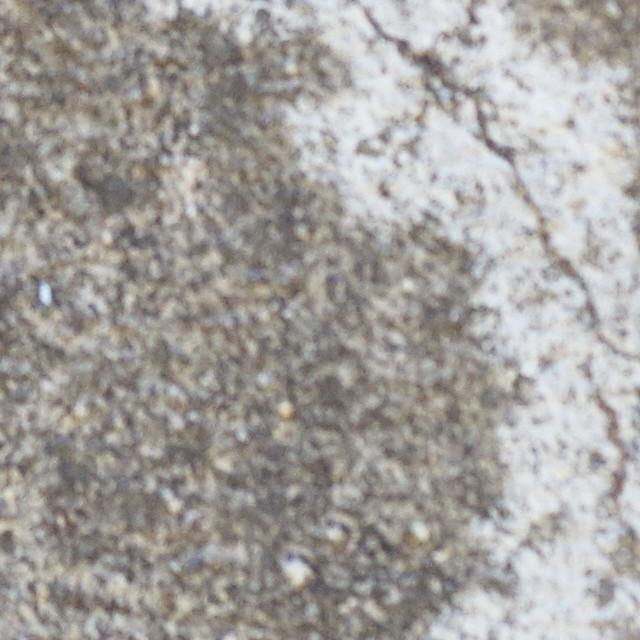diagonal crack: (363, 6, 640, 359)
